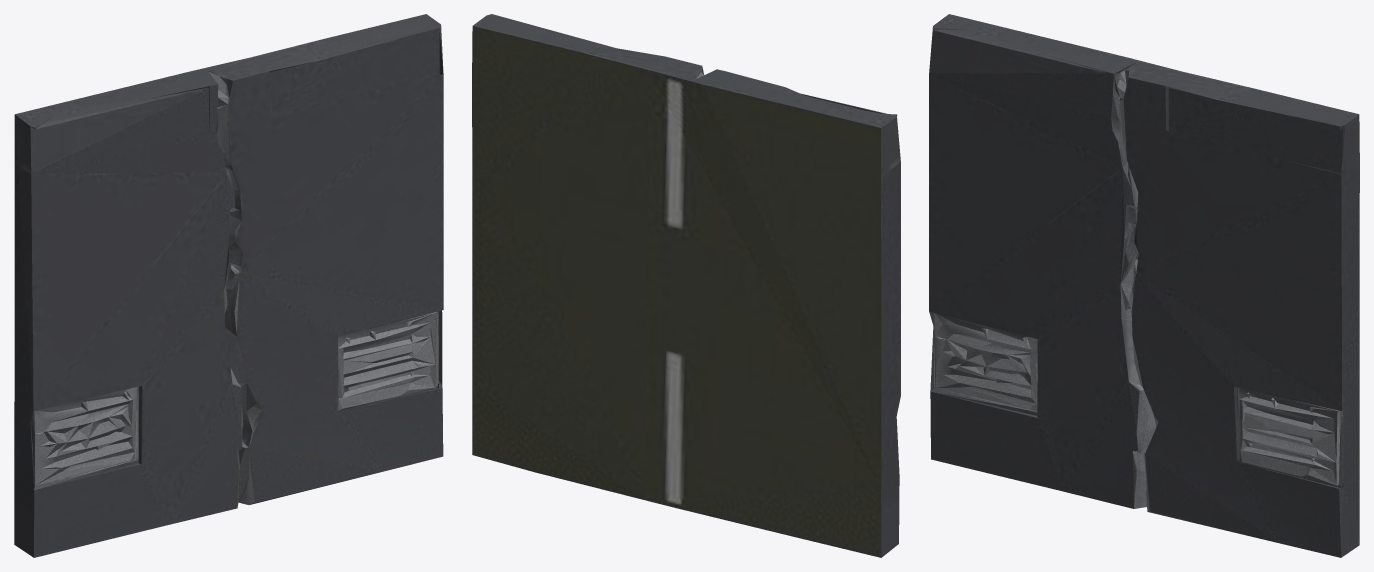
File: ground.glb
3 views of the same model, side by side, from view 1: azimuth 30°, elevation 25°; view 2: azimuth 150°, elevation 25°; view 3: azimuth 330°, elevation 25° (orthographic).
Size of the model in its own units: 1.9 by 1.9 by 0.1578.
Materials: 1 (1 with a texture image).
